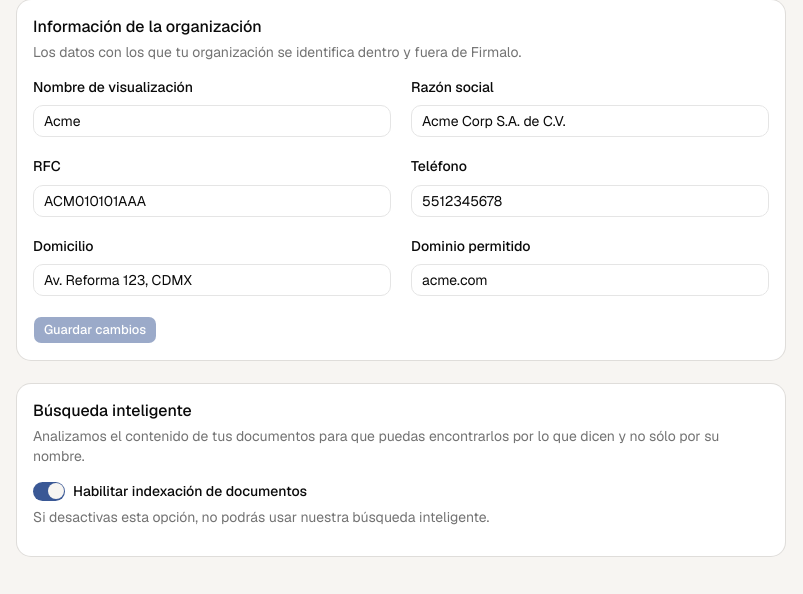
Test: SmartSearchSettingsCard › mientras guarda muestra el estado y no deja volver a cambiarlo
Click the switch named "Habilitar indexación de documentos" at (49, 491), box [33,482,65,501]
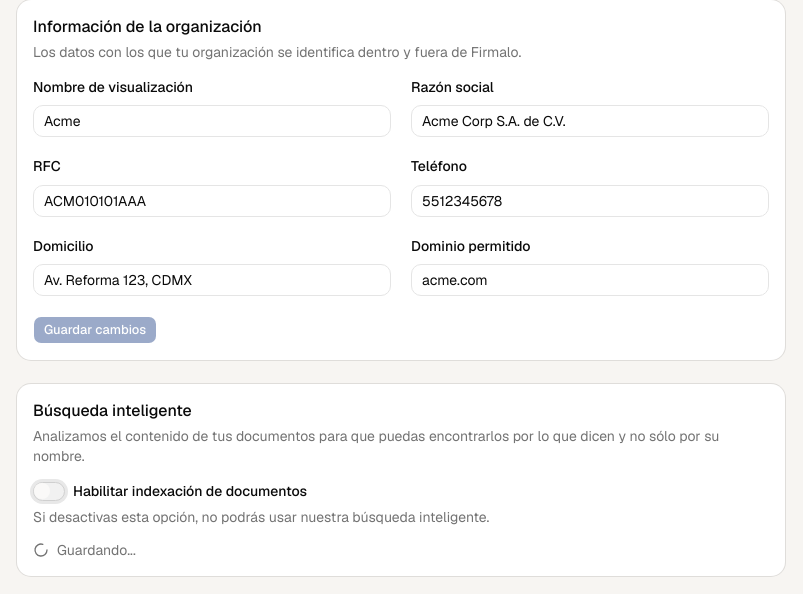
Expected: the message reads "Guardando...", [57,541,136,559]
Click the switch named "Habilitar indexación de documentos" at (49, 491), box [33,482,65,501]
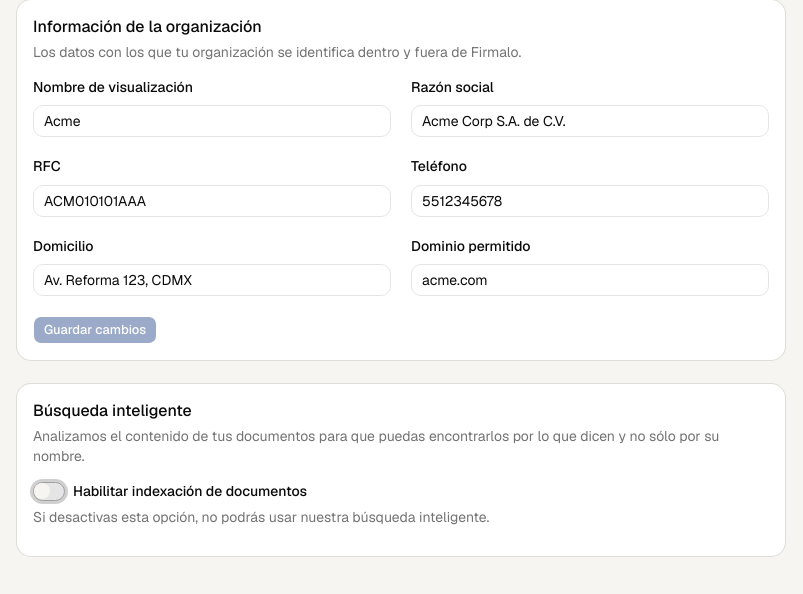
Expected: the switch named "Habilitar indexación de documentos" is not checked, [33,482,65,501]
Expected: the message "Guardando..." is gone
